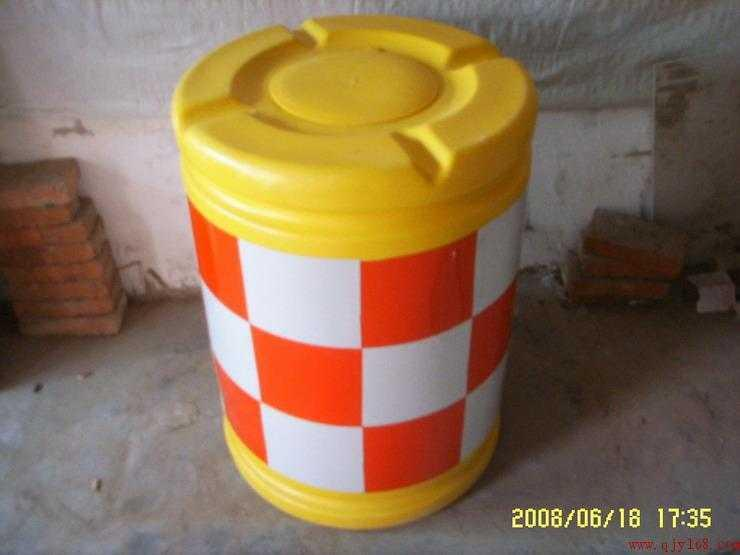sign: (166, 15, 549, 532)
